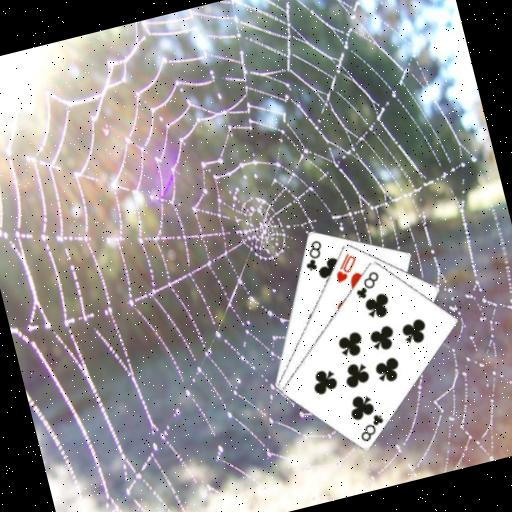10H: (328, 249, 362, 286)
8C: (349, 267, 385, 302), (353, 410, 389, 445), (298, 236, 329, 274)
